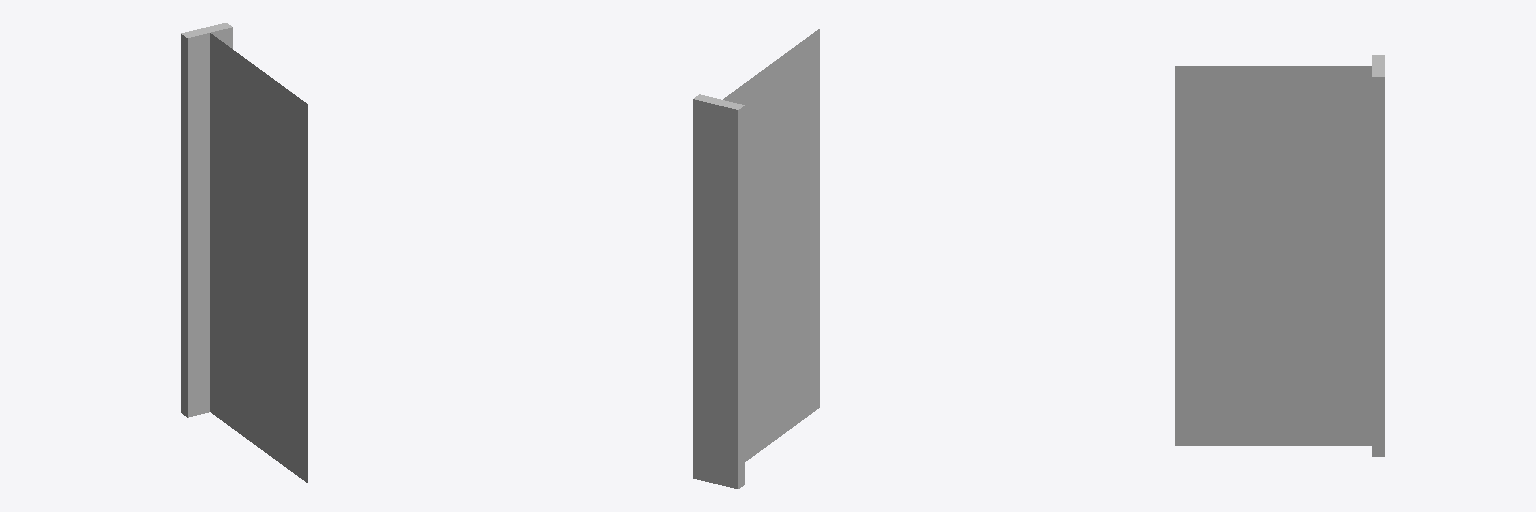
The model's file is 1544_restroom_sign_male.obj.
3 renders of one model, left to right at view 1: azimuth 30°, elevation 25°; view 2: azimuth 150°, elevation 25°; view 3: azimuth 270°, elevation 25°, orthographic.
Visible parts, largest first — view 1: Sign, Holder; view 2: Sign, Holder; view 3: Sign, Holder.
Boxes of the visible parts, x1,y1,x2,y2 form: Sign: [210, 33, 307, 482]; Holder: [181, 23, 232, 417]; Sign: [723, 29, 819, 461]; Holder: [693, 94, 744, 488]; Sign: [1175, 66, 1371, 445]; Holder: [1372, 55, 1384, 456].
Size of the model in its own units: 0.125 by 1 by 0.5.